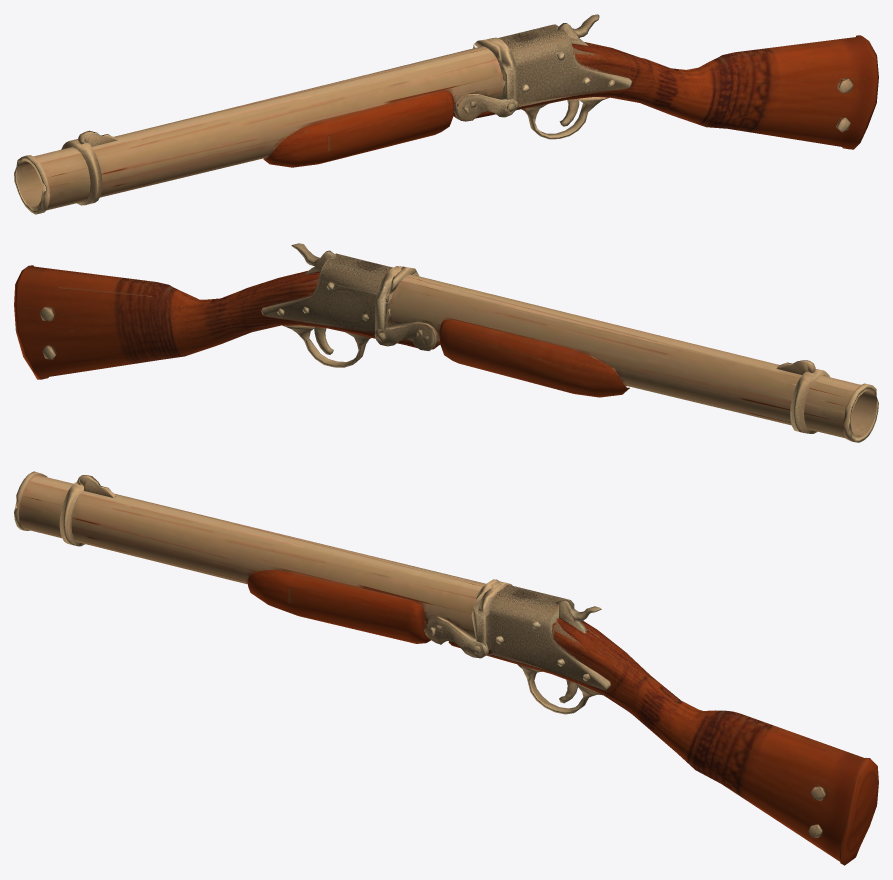
File: gun-hills.glb
The picture shows the model from 3 angles, top to bottom: view 1: azimuth 30°, elevation 25°; view 2: azimuth 150°, elevation 25°; view 3: azimuth 330°, elevation 25°; orthographic projection.
Bounding box in the file's own units: 0.9546 × 0.2197 × 0.0801.
1 material, 1 textured.
